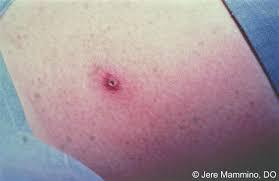Spider: (80, 43, 133, 107)
